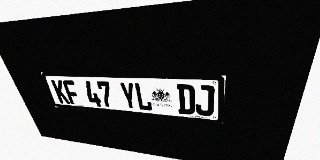4: (83, 81, 102, 107)
7: (95, 81, 115, 108)
D: (176, 84, 195, 115)
F: (62, 80, 82, 105)
J: (195, 85, 215, 116)
K: (51, 80, 70, 104)
L: (134, 83, 153, 111)
Y: (119, 82, 138, 110)
